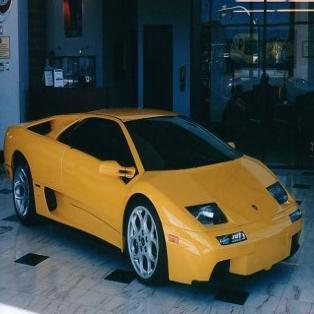Auto: (2, 107, 304, 286)
